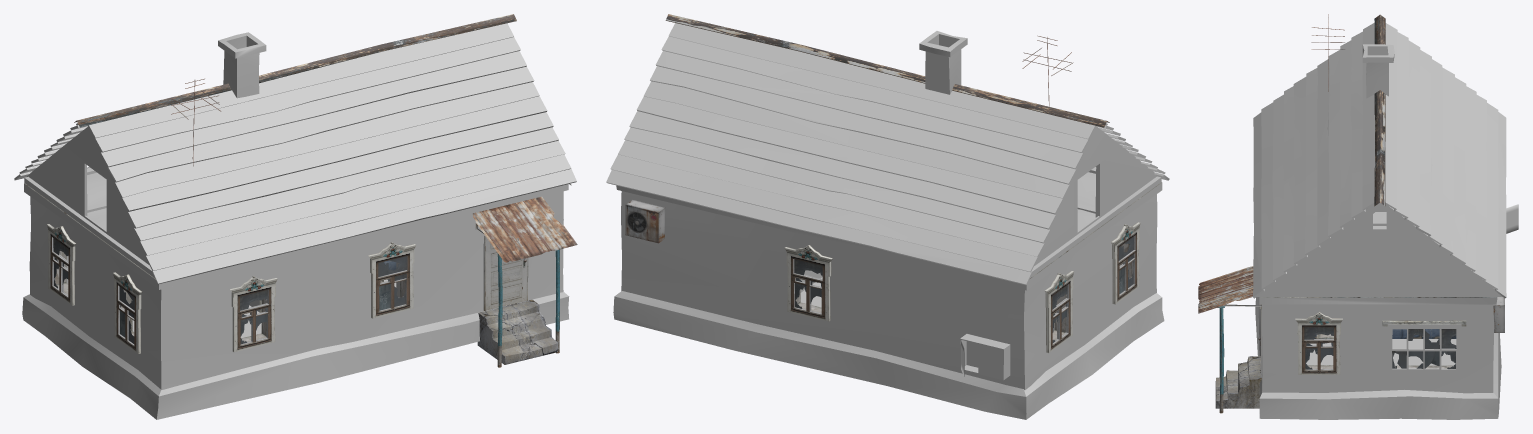
The model's file is Houses_Ready_02.FBX.
The picture shows the model from 3 angles, left to right: view 1: azimuth 30°, elevation 25°; view 2: azimuth 150°, elevation 25°; view 3: azimuth 270°, elevation 25°; orthographic projection. The views are drawn at different scales.
Visible parts, largest first — view 1: Roof_02, Corps_01_2, Foundation_02, Attic_02, Porch_02_1, Porch_02_2, Windows_03 (×2), Windows_03_2 (×2), Peak_02, Chimney_03, Door_02; view 2: Roof_02, Corps_01_2, Foundation_02, Attic_02, Windows_03 (×2), Peak_02, Chimney_03, Electrical_Box_02_Open, Windows_03_2, Air_03; view 3: Roof_02, Corps_01_2, Attic_02, Foundation_02, Porch_02_1, Porch_02_2, Windows_Big_04, Windows_03, Peak_02, Chimney_03, Air_03, Electrical_Box_02_Open.
Boxes of the visible parts, <box> form: Roof_02: <box>14,23,576,284</box>; Corps_01_2: <box>24,167,568,390</box>; Foundation_02: <box>22,292,569,419</box>; Attic_02: <box>24,126,571,278</box>; Porch_02_1: <box>472,196,577,367</box>; Porch_02_2: <box>477,299,558,364</box>; Windows_03 (×2): <box>47,224,277,352</box>; Windows_03_2 (×2): <box>113,242,416,353</box>; Peak_02: <box>74,14,516,127</box>; Chimney_03: <box>218,32,266,98</box>; Door_02: <box>485,237,527,310</box>; Roof_02: <box>606,23,1169,285</box>; Corps_01_2: <box>616,166,1162,389</box>; Foundation_02: <box>613,291,1164,419</box>; Attic_02: <box>1030,126,1161,277</box>; Windows_03 (×2): <box>784,245,1074,352</box>; Peak_02: <box>665,14,1109,127</box>; Chimney_03: <box>919,31,967,94</box>; Electrical_Box_02_Open: <box>960,334,1010,380</box>; Windows_03_2: <box>1111,222,1140,304</box>; Air_03: <box>625,200,665,243</box>; Roof_02: <box>1253,22,1506,298</box>; Corps_01_2: <box>1259,297,1497,393</box>; Attic_02: <box>1252,202,1502,296</box>; Foundation_02: <box>1255,297,1501,419</box>; Porch_02_1: <box>1198,266,1261,413</box>; Porch_02_2: <box>1215,356,1261,408</box>; Windows_Big_04: <box>1387,324,1461,373</box>; Windows_03: <box>1295,311,1342,374</box>; Peak_02: <box>1374,14,1385,206</box>; Chimney_03: <box>1362,44,1394,98</box>; Air_03: <box>1493,297,1504,332</box>; Electrical_Box_02_Open: <box>1506,204,1518,233</box>.
Bounding box in the file's own units: 1262 × 910 × 834.
